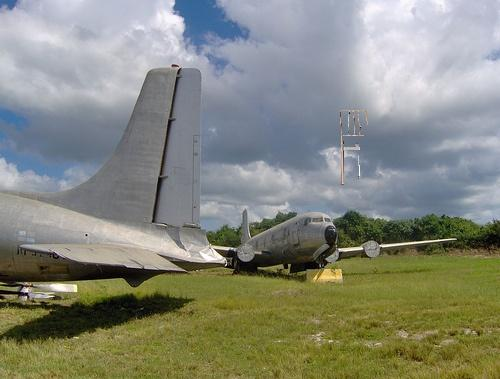tampered: (341, 111, 368, 185)
